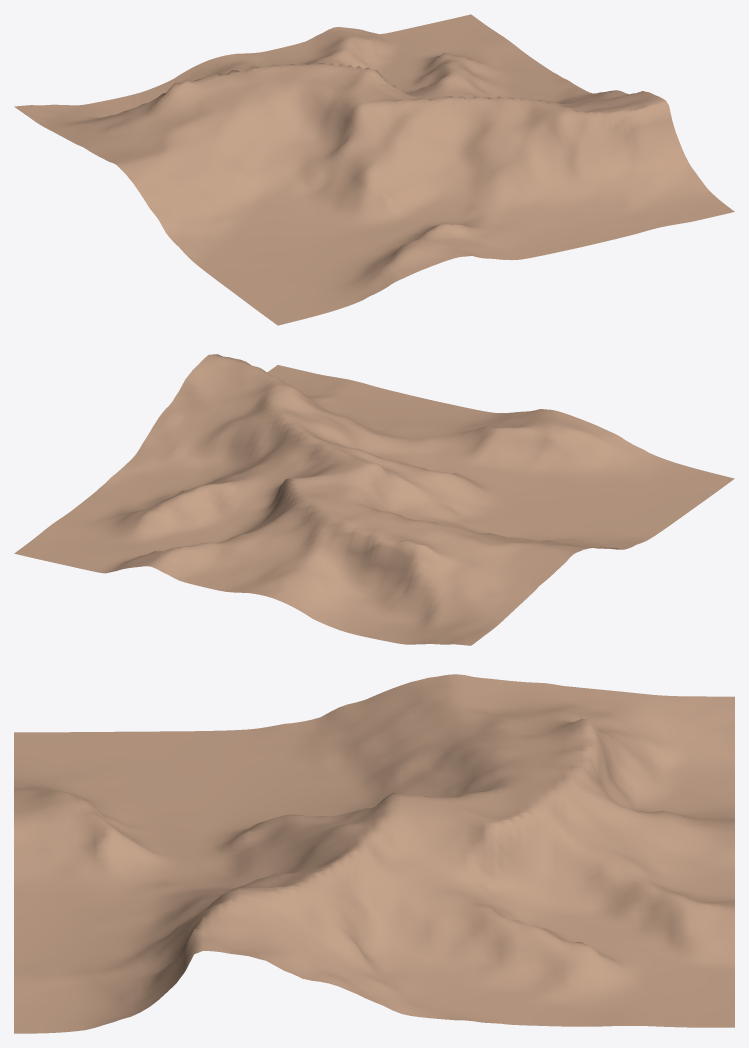
3 renders of one model, top to bottom at view 1: azimuth 30°, elevation 25°; view 2: azimuth 150°, elevation 25°; view 3: azimuth 270°, elevation 25°, orthographic. The views are drawn at different scales.
Visible parts, largest first — view 1: plane; view 2: plane; view 3: plane.
Boxes of the visible parts, <box> form: plane: <box>14,14,734,325</box>; plane: <box>14,354,734,645</box>; plane: <box>14,674,734,1033</box>.
Size of the model in its own units: 300 by 39.59 by 300.
